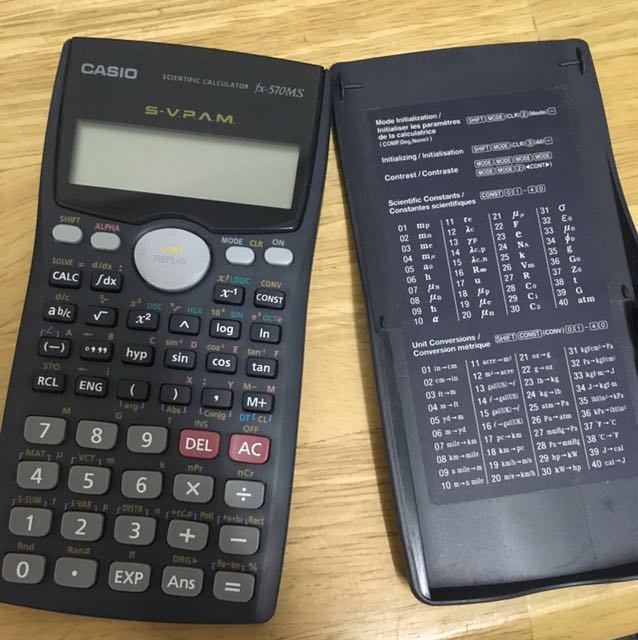Calculator: (1, 33, 346, 629)
